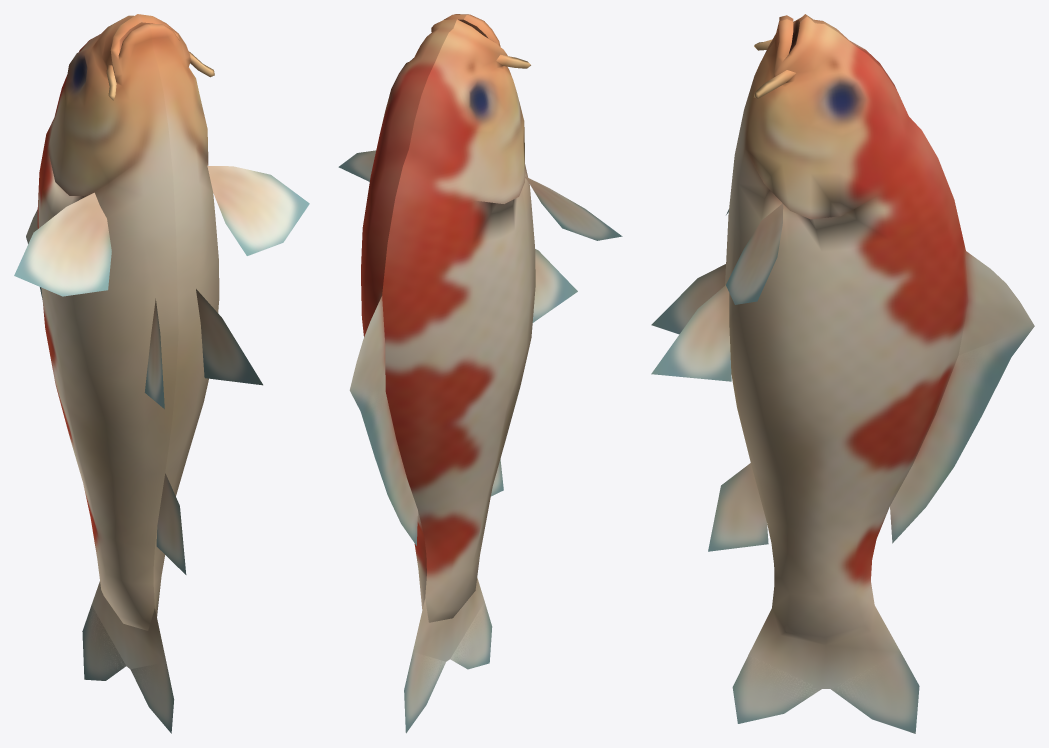
The model's file is koi.glb.
3 views of the same model, side by side, from view 1: azimuth 30°, elevation 25°; view 2: azimuth 150°, elevation 25°; view 3: azimuth 270°, elevation 25° (orthographic). The views are drawn at different scales.
Parts seen in each view (by area): view 1: FishNishikigoi_node7; view 2: FishNishikigoi_node7; view 3: FishNishikigoi_node7.
Part boxes in pixels (<box>): FishNishikigoi_node7: <box>14,14,309,733</box>; FishNishikigoi_node7: <box>338,14,622,733</box>; FishNishikigoi_node7: <box>651,14,1034,733</box>.
Bounding box in the file's own units: 0.3934 × 0.8953 × 0.4339.
1 material, 1 textured.
